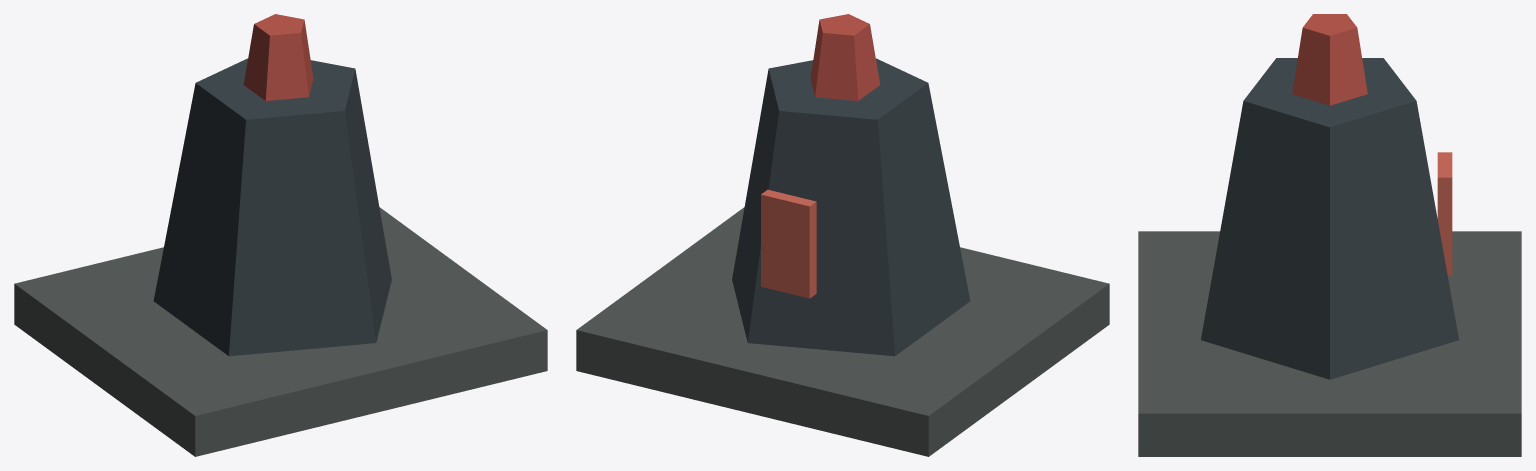
Rendered from enemy-source.glb.
The picture shows the model from 3 angles, left to right: view 1: azimuth 30°, elevation 25°; view 2: azimuth 150°, elevation 25°; view 3: azimuth 270°, elevation 25°; orthographic projection. The views are drawn at different scales.
Parts seen in each view (by area): view 1: enemy-source; view 2: enemy-source; view 3: enemy-source.
Boxes of the visible parts, box(x1,y1,x2,y2) form: enemy-source: box(14, 14, 547, 456); enemy-source: box(576, 14, 1109, 456); enemy-source: box(1138, 14, 1521, 456).
Size of the model in its own units: 1.8 by 1.58 by 1.6.
